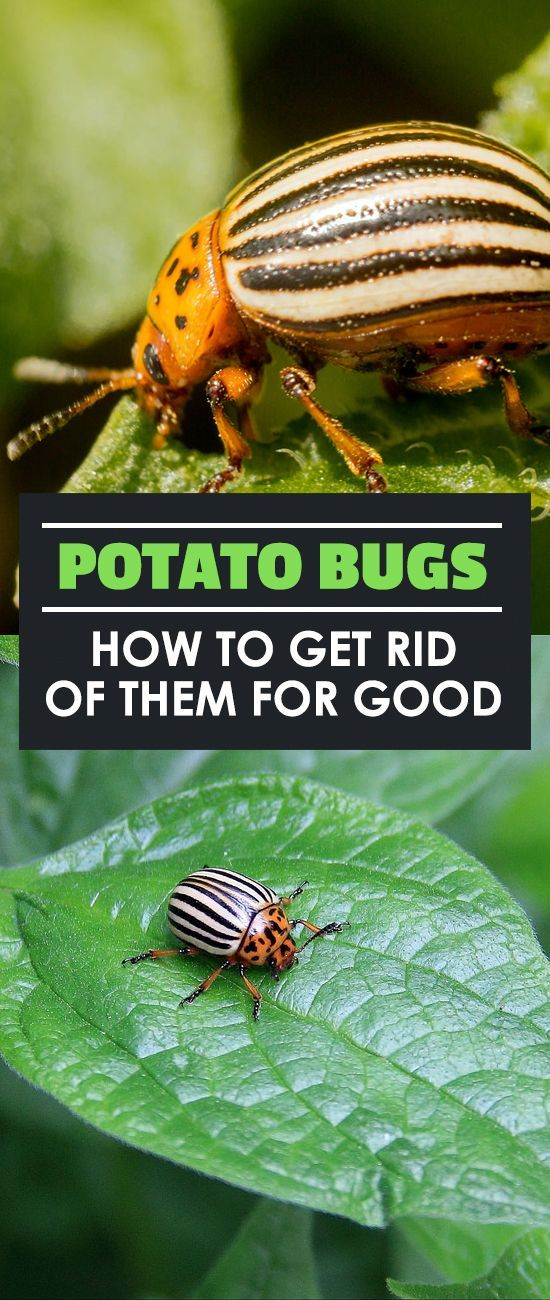hrosc: (98, 97, 550, 467), (149, 847, 320, 993)
